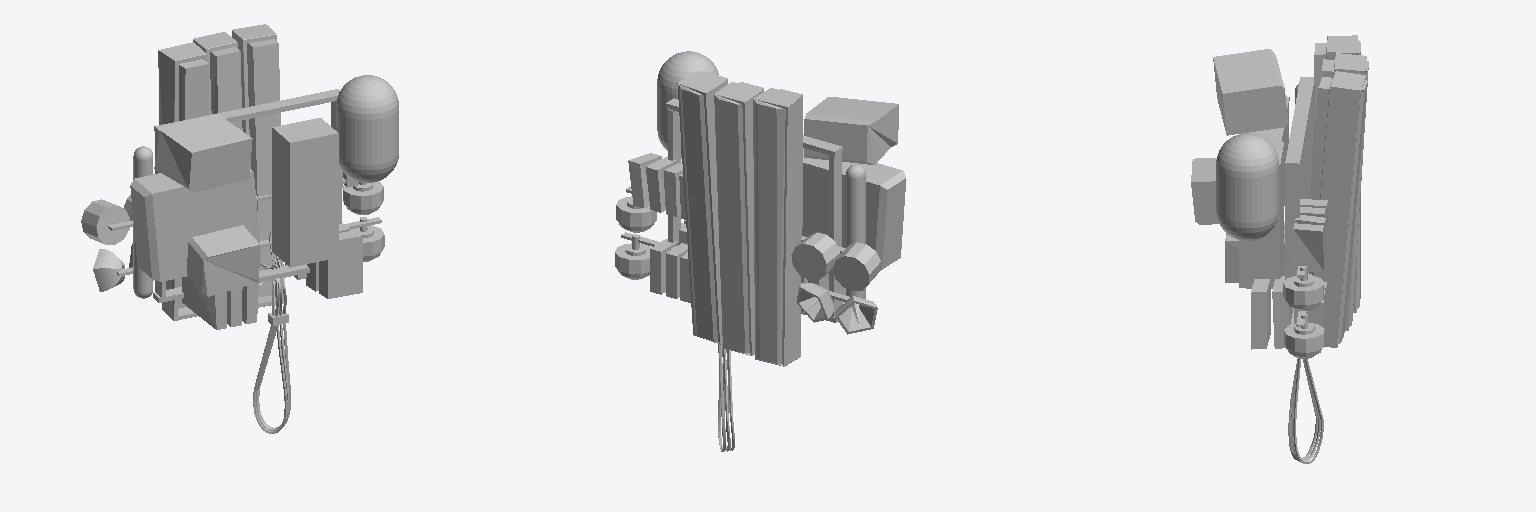
Rendered from celltower1.obj.
3 renders of one model, left to right at view 1: azimuth 30°, elevation 25°; view 2: azimuth 150°, elevation 25°; view 3: azimuth 270°, elevation 25°, orthographic.
Parts seen in each view (by area): view 1: grey.2, grey.1, darkgrey, white, grey.3, black.1; view 2: grey.1, grey.3, darkgrey, white, grey.2, black.1; view 3: grey.1, darkgrey, white, grey.2, grey.3, black.1.
Part boxes in pixels (x1,y1,x2,y2): grey.2: (130, 118, 362, 298); grey.1: (158, 24, 288, 325); darkgrey: (108, 89, 381, 302); white: (81, 75, 398, 256); grey.3: (93, 146, 358, 329); black.1: (253, 206, 380, 433); grey.1: (677, 71, 802, 366); grey.3: (628, 153, 877, 334); darkgrey: (621, 97, 898, 322); white: (615, 51, 880, 290); grey.2: (677, 148, 905, 269); black.1: (617, 223, 734, 451); grey.1: (1294, 35, 1368, 357); darkgrey: (1213, 49, 1314, 328); white: (1216, 133, 1324, 352); grey.2: (1239, 96, 1292, 349); grey.3: (1191, 84, 1327, 333); black.1: (1287, 272, 1323, 463).
Bounding box in the file's own units: 565 × 752 × 315.